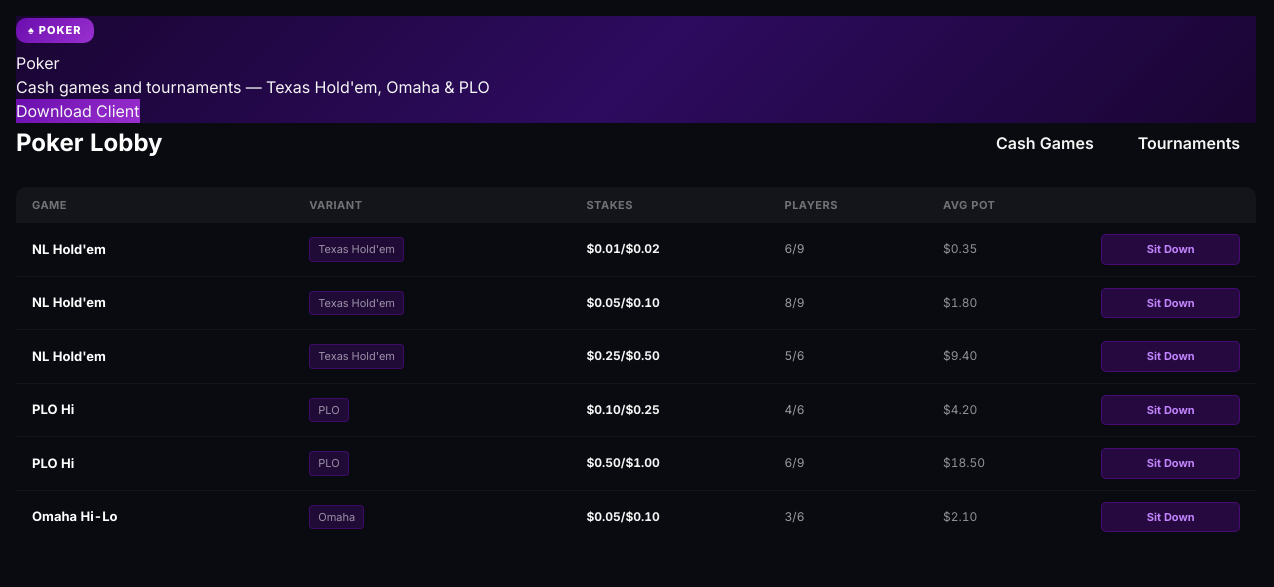
Test case: Poker Component › Tab Switching › switches from tournaments back to cash games
Click the button "Tournaments". click: [1189, 142]
box: [1122,122,1256,162]
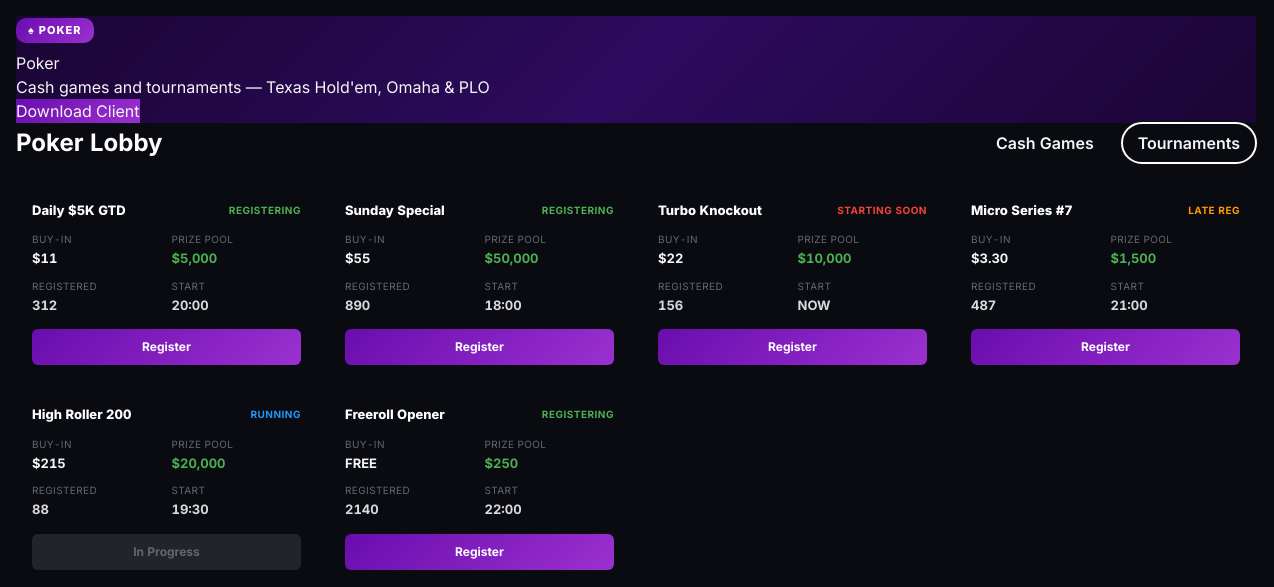
Result: the text "Daily $5K GTD" is shown at [32,200,126,220]
Click the button "Cash Games". click: [1045, 142]
box: [980,122,1110,162]
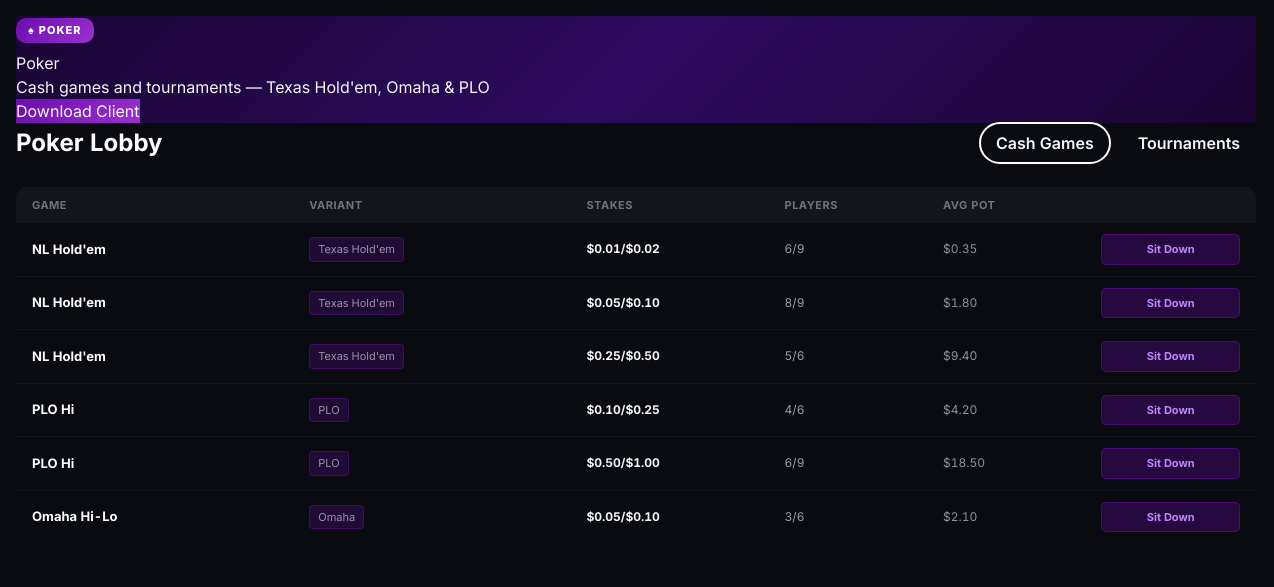
Result: the text "$0.01/$0.02" is shown at [586,241,660,256]
